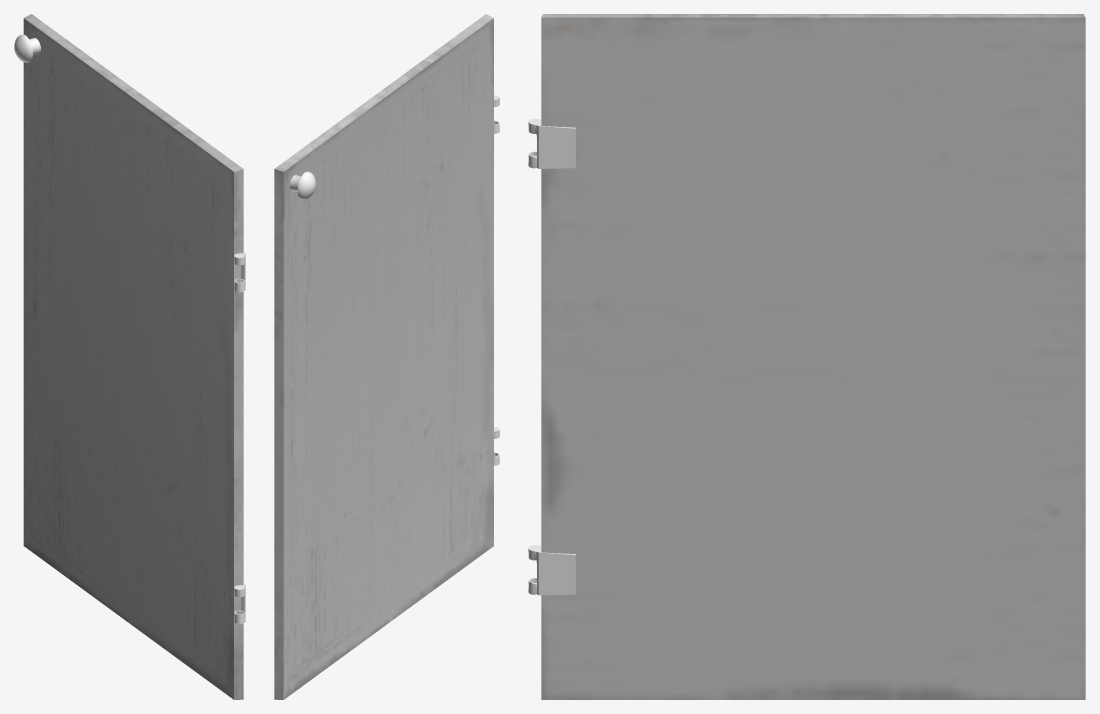
File: SM_BookShelf_A1_Door2.fbx
3 views of the same model, side by side, from view 1: azimuth 30°, elevation 25°; view 2: azimuth 150°, elevation 25°; view 3: azimuth 270°, elevation 25° (orthographic). The views are drawn at different scales.
Visible parts, largest first — view 1: SM_BookShelf_A1_Door2; view 2: SM_BookShelf_A1_Door2; view 3: SM_BookShelf_A1_Door2.
Part boxes in pixels (x1=…): SM_BookShelf_A1_Door2: x1=14, y1=14, x2=245, y2=699; SM_BookShelf_A1_Door2: x1=274, y1=14, x2=499, y2=699; SM_BookShelf_A1_Door2: x1=528, y1=14, x2=1085, y2=699.
Bounding box in the file's own units: 3.55 × 45.59 × 61.6.
Materials: 1 (1 with a texture image).
